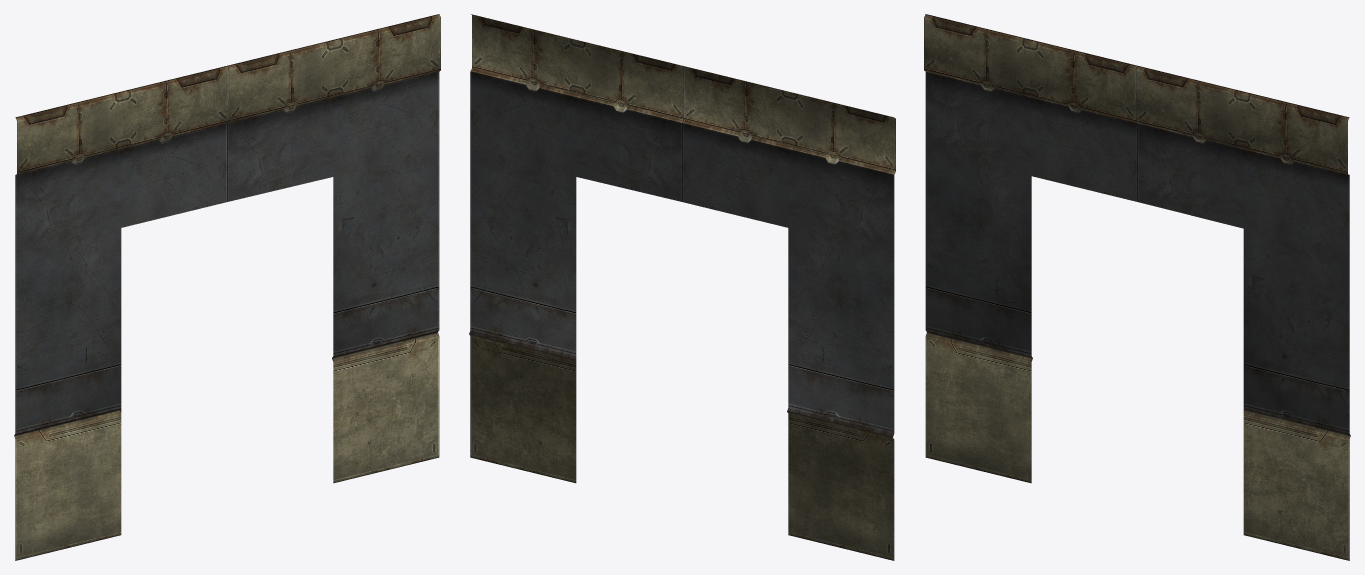
Rendered from datasite_flat_dooway.dae.
3 views of the same model, side by side, from view 1: azimuth 30°, elevation 25°; view 2: azimuth 150°, elevation 25°; view 3: azimuth 330°, elevation 25° (orthographic).
Parts seen in each view (by area): view 1: polySurface133; view 2: polySurface133; view 3: polySurface133.
Boxes of the visible parts, x1,y1,x2,y2 form: polySurface133: (14, 14, 440, 560); polySurface133: (469, 14, 895, 560); polySurface133: (924, 14, 1350, 560).
Size of the model in its own units: 4 by 4 by 0.0483.
